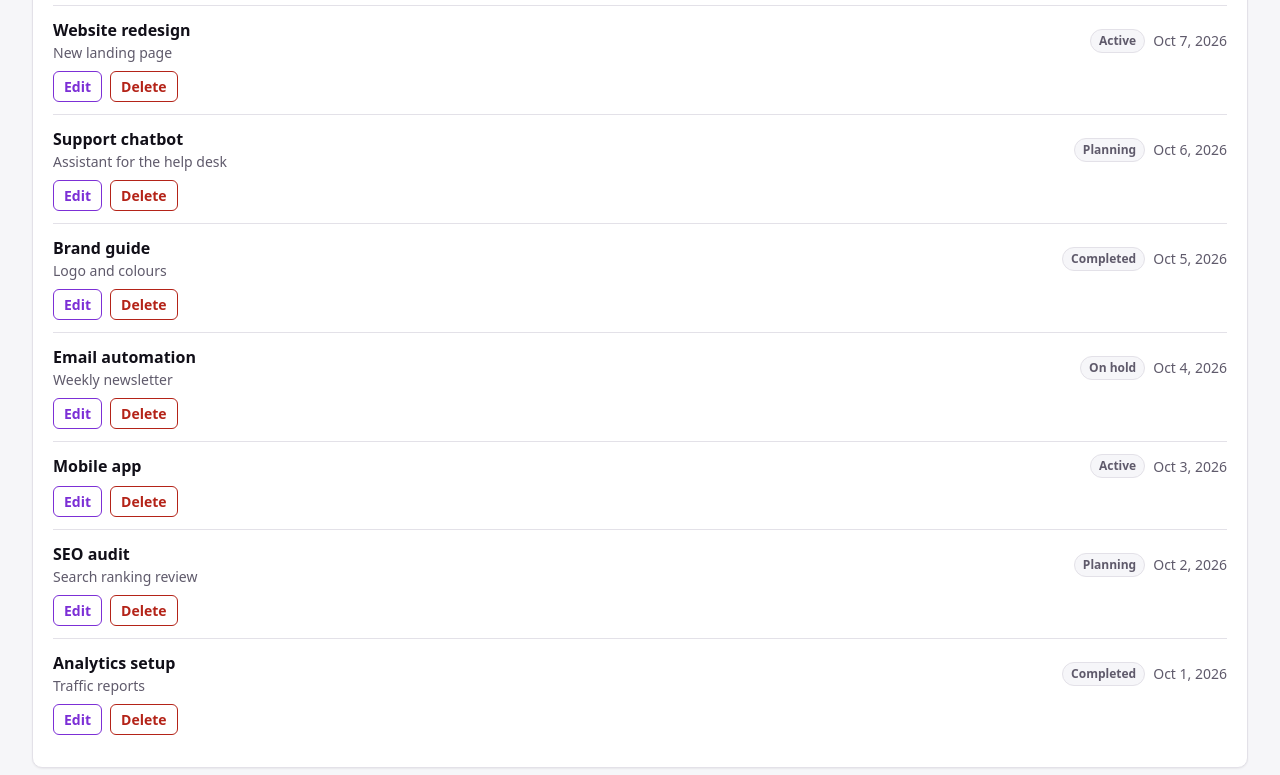
Test case: Projects page: create, edit, delete › deletes a project after confirmation and refreshes the list
(page scrolled)
Click the button with aria-label "Delete SEO audit" at (144, 610), box [110,595,178,626]
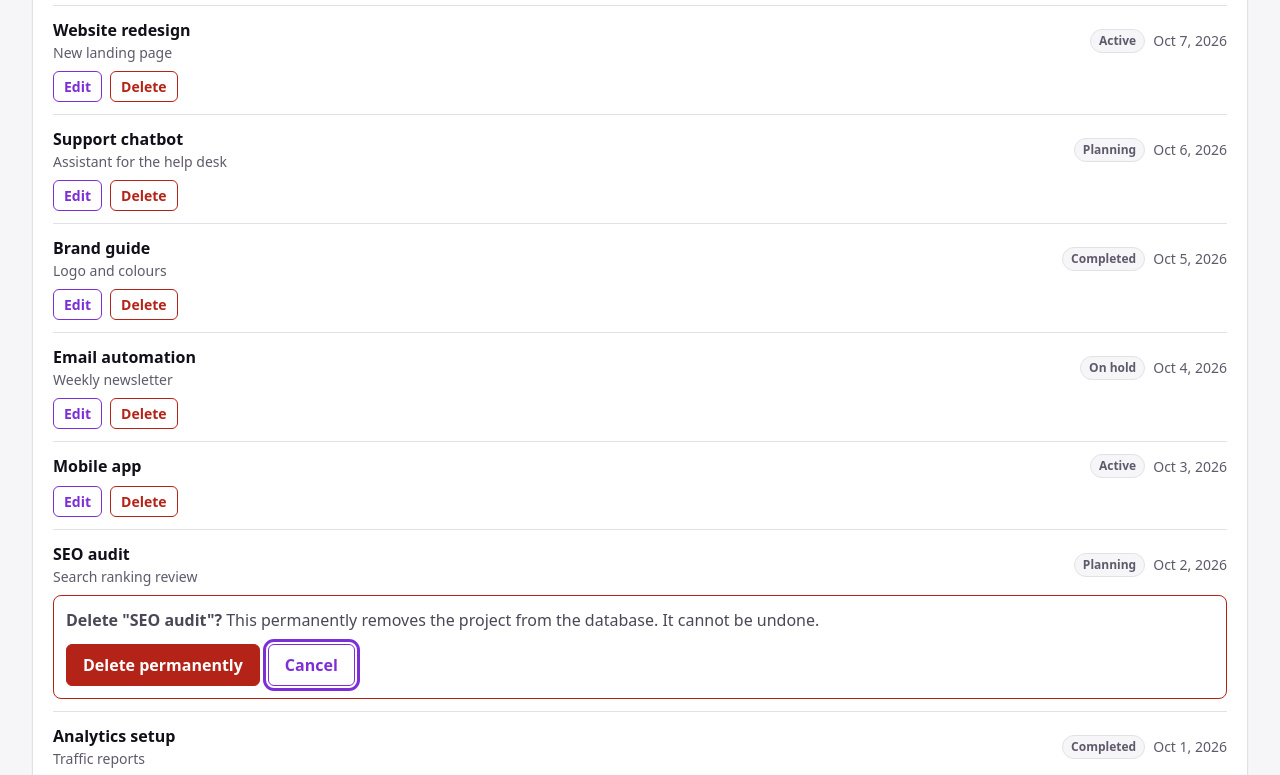
Now the element named "Confirm deleting SEO audit" shows "It cannot be undone.", box [222,609,819,631]
Click the button "Delete permanently" at (163, 665), box [66,644,260,686]
(page scrolled)
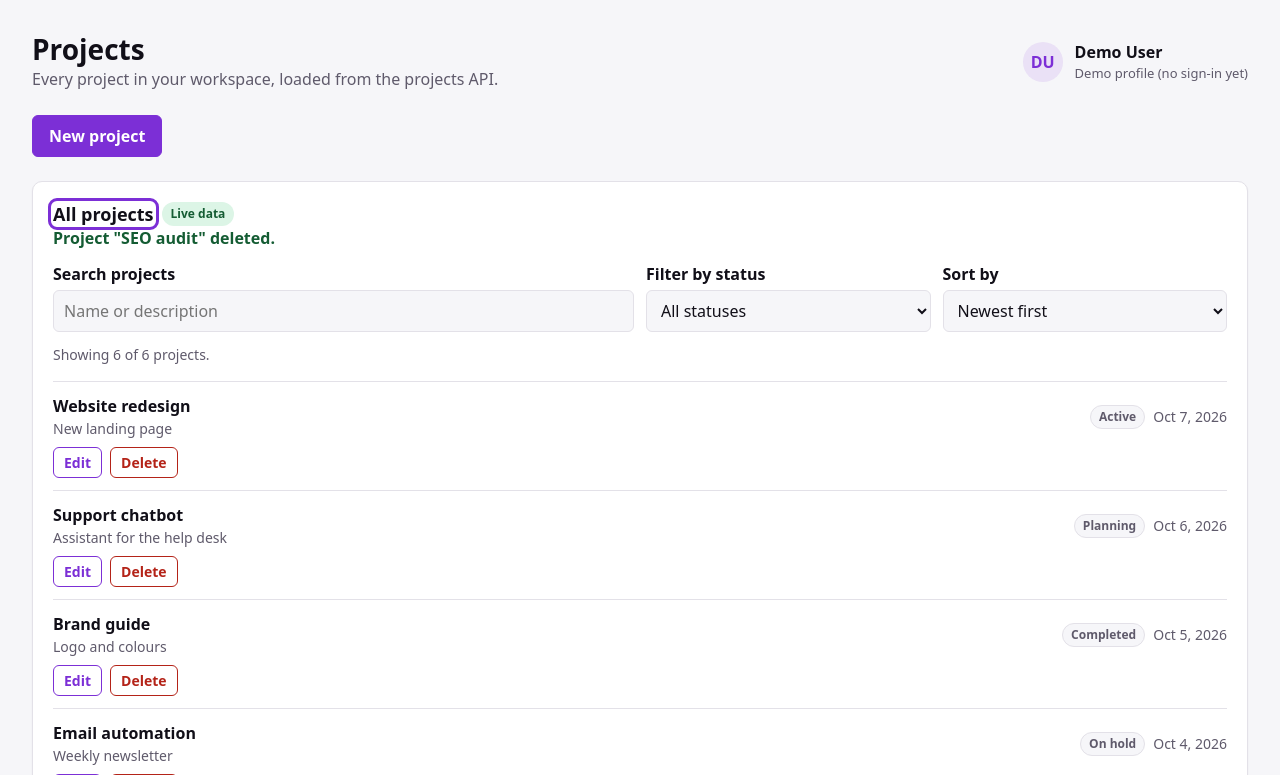
Expected: the text "SEO audit" is not shown
Now the text "Project \"SEO audit\" deleted." is shown, box [53,227,275,249]
Now the text "Showing 6 of 6 projects." is shown, box [53,345,210,364]
